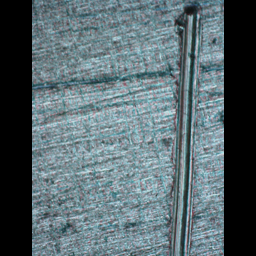d: (161, 2, 206, 256)
